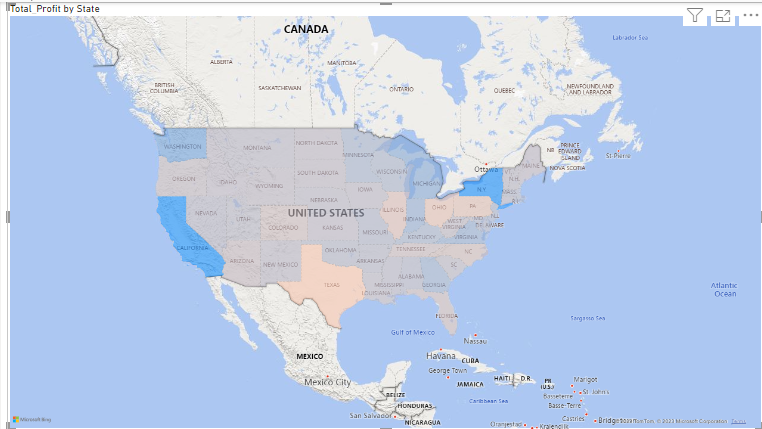

Layout of this report page (visuals, bound fields, positions):
{"tool":"powerbi","page":{"name":"Question4","canvas":[1280,720],"ordinal":3},"visuals":[{"type":"filledMap","fields":{"Category":["Orders_VS_Returns_VS_Person.State"]},"box":[10.1,0,1269.9,719.7],"z":0}]}

Visuals, with their boxes in screenshot pixels (x1, y1, x2, y2), scaled from the page's 1280x720 canvas onto the 762x429 screenshot:
filledMap - Orders_VS_Returns_VS_Person.State: {"left": 6, "top": 0, "right": 761, "bottom": 428}
